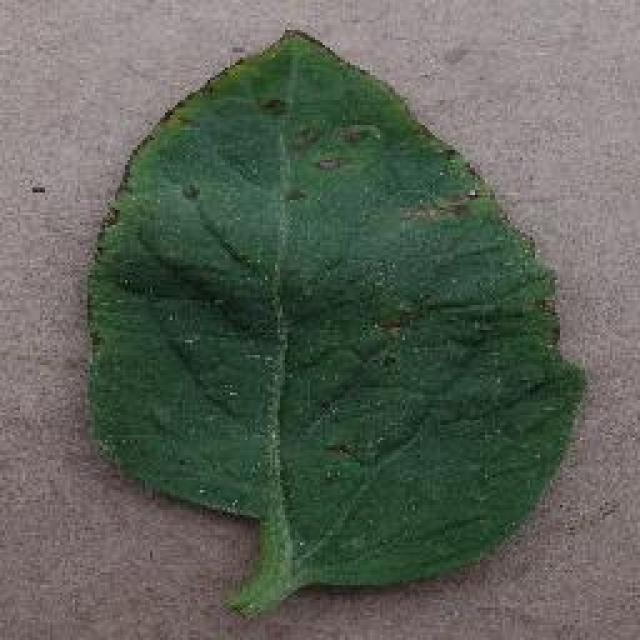Tomato bacterial spot leaf: (85, 20, 592, 595)
